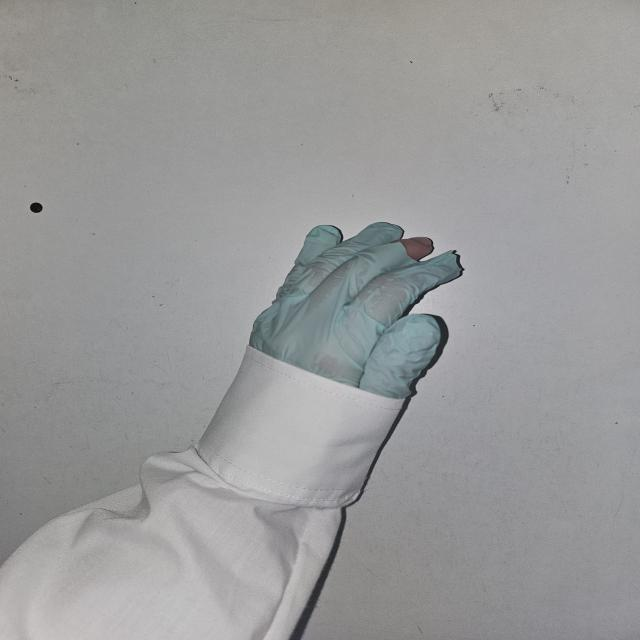gloves_damaged: (246, 220, 472, 403)
